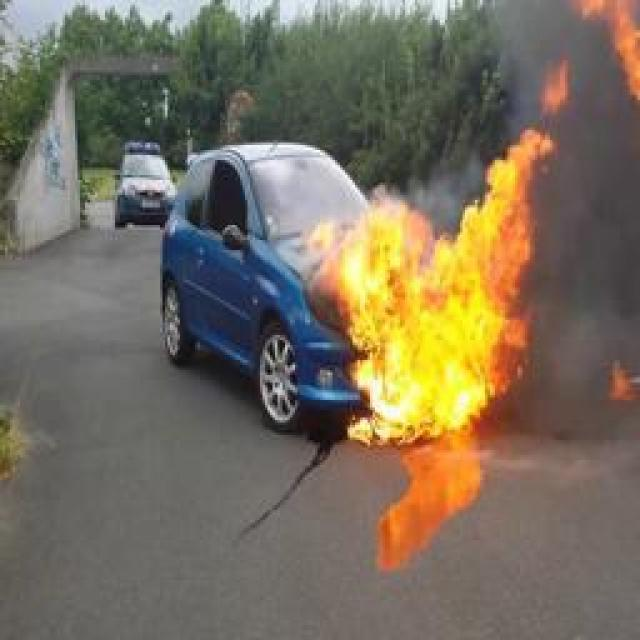Fire: (312, 65, 568, 455), (570, 0, 640, 102)
